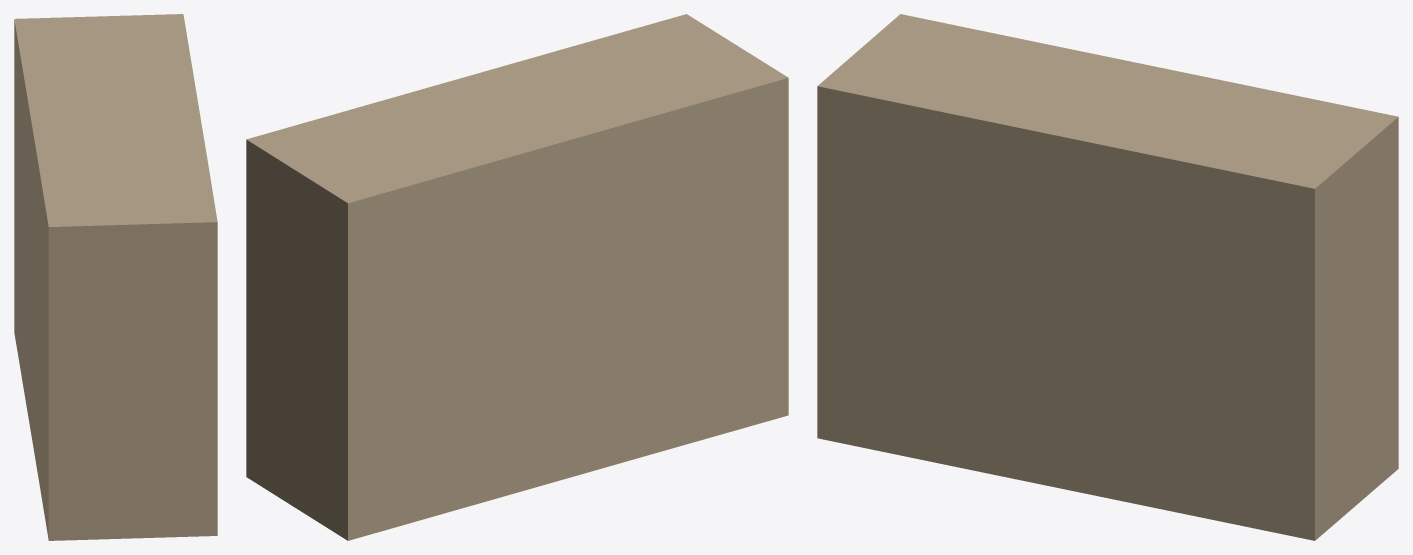
The model's file is bld_99520214.dae.
The picture shows the model from 3 angles, left to right: view 1: azimuth 30°, elevation 25°; view 2: azimuth 150°, elevation 25°; view 3: azimuth 270°, elevation 25°; orthographic projection. The views are drawn at different scales.
Visible parts, largest first — view 1: bld_99520214; view 2: bld_99520214; view 3: bld_99520214.
Boxes of the visible parts, x1=… form: bld_99520214: x1=14, y1=14, x2=217, y2=540; bld_99520214: x1=246, y1=14, x2=788, y2=540; bld_99520214: x1=817, y1=14, x2=1398, y2=540.
Size of the model in its own units: 8.52 by 11.97 by 8.
